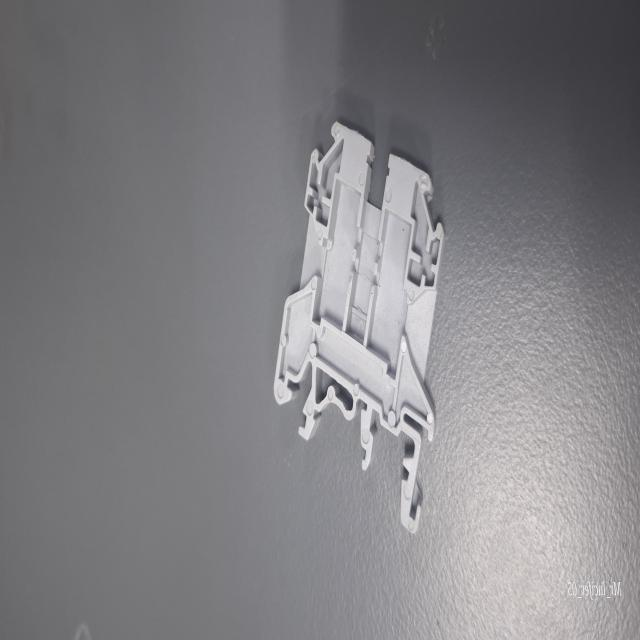Reject: (266, 98, 455, 540)
